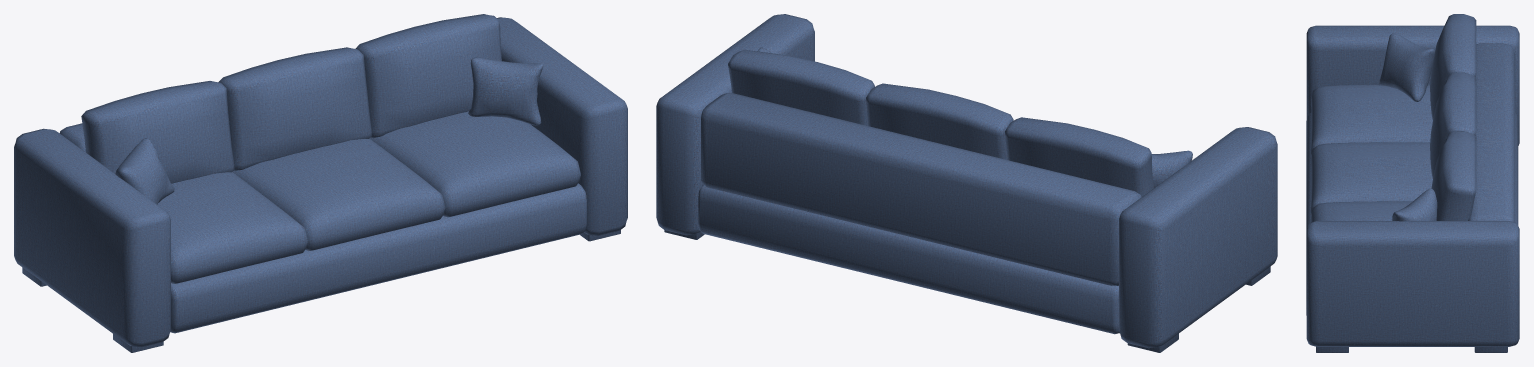
File: SofaBlue.gltf
3 renders of one model, left to right at view 1: azimuth 30°, elevation 25°; view 2: azimuth 150°, elevation 25°; view 3: azimuth 270°, elevation 25°, orthographic. The views are drawn at different scales.
Parts seen in each view (by area): view 1: g; view 2: g; view 3: g.
Part boxes in pixels (x1,y1,x2,y2): g: (14,14,627,352); g: (656,14,1277,352); g: (1306,14,1519,352).
Size of the model in its own units: 2 by 0.6593 by 0.8387.
Materials: 1 (1 with a texture image).
